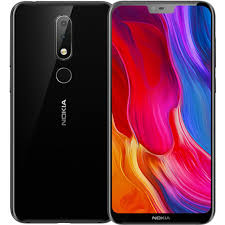nokia: (5, 1, 114, 225), (106, 1, 215, 223)
